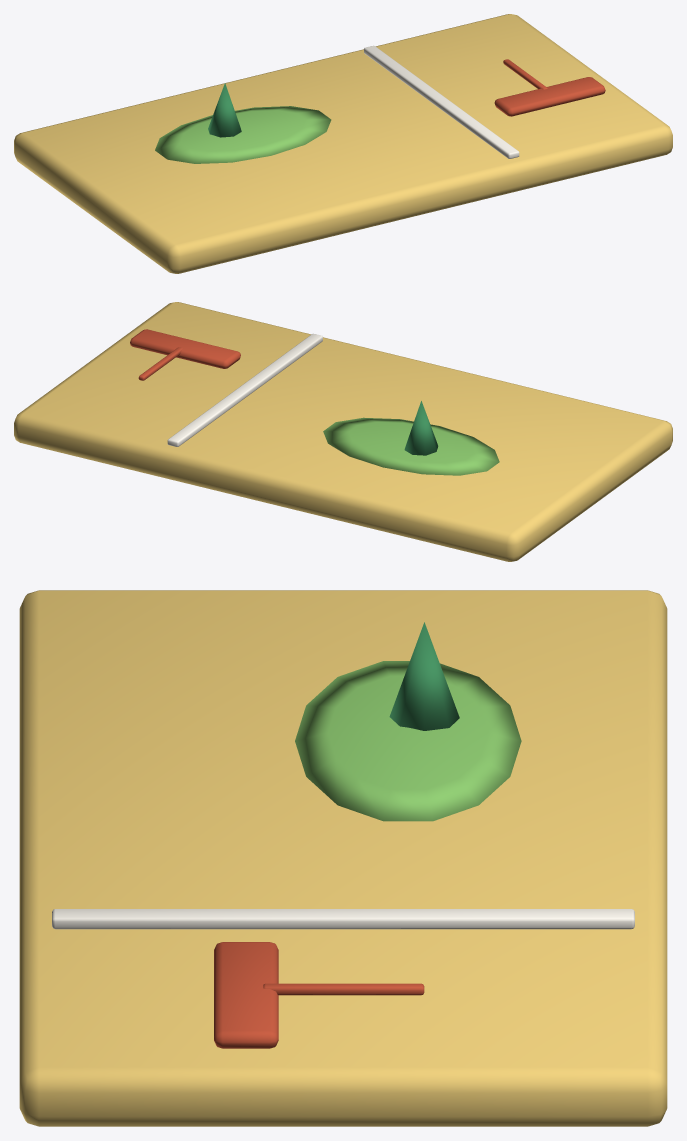
Rendered from mat-tour-ticket.glb.
3 renders of one model, top to bottom at view 1: azimuth 30°, elevation 25°; view 2: azimuth 150°, elevation 25°; view 3: azimuth 270°, elevation 25°, orthographic. The views are drawn at different scales.
Visible parts, largest first — view 1: mat; view 2: mat; view 3: mat.
Part boxes in pixels (<box>): mat: <box>14,14,672,273</box>; mat: <box>14,302,672,561</box>; mat: <box>19,590,667,1126</box>.
Bounding box in the file's own units: 0.36 × 0.058 × 0.2.
